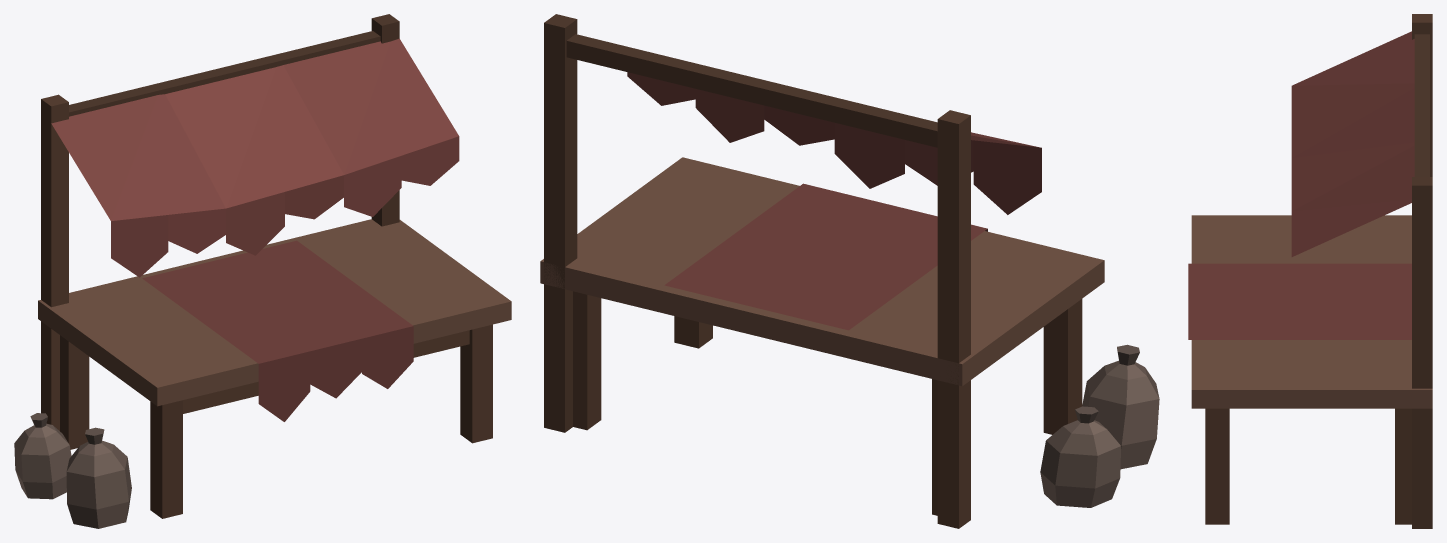
Rendered from stallRed.glb.
3 renders of one model, left to right at view 1: azimuth 30°, elevation 25°; view 2: azimuth 150°, elevation 25°; view 3: azimuth 270°, elevation 25°, orthographic. The views are drawn at different scales.
Parts seen in each view (by area): view 1: lit; view 2: lit; view 3: lit.
Part boxes in pixels (x1,y1,x2,y2): lit: (14,14,511,528); lit: (540,14,1159,528); lit: (1188,14,1432,528).
Size of the model in its own units: 2.91 by 2.2 by 1.42.
